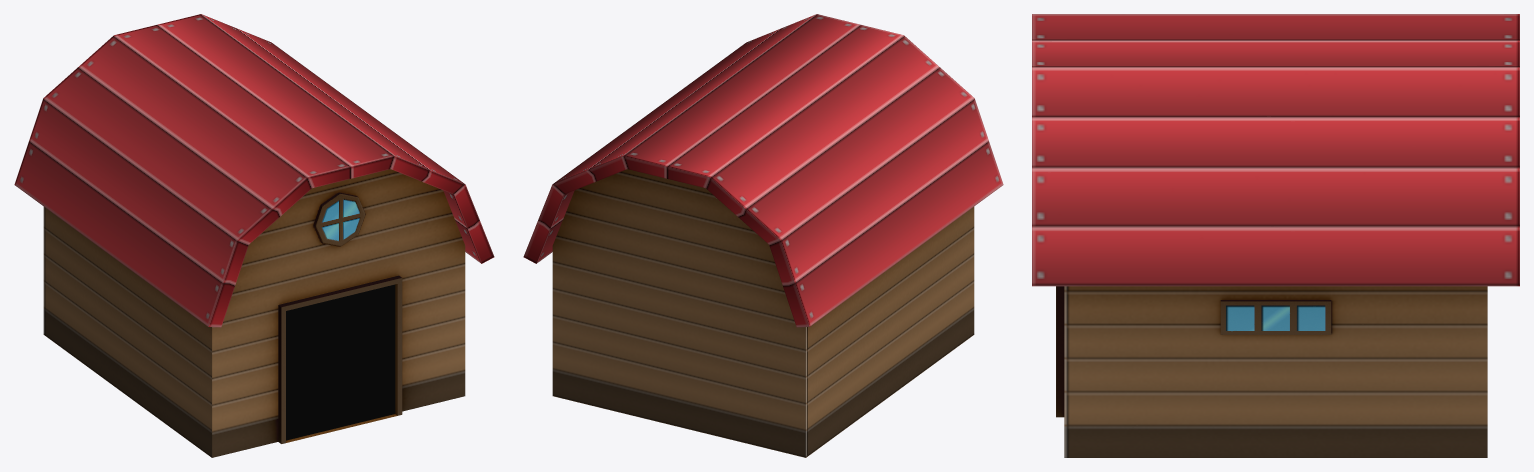
Rendered from house.glb.
3 views of the same model, side by side, from view 1: azimuth 30°, elevation 25°; view 2: azimuth 150°, elevation 25°; view 3: azimuth 270°, elevation 25° (orthographic). The views are drawn at different scales.
Visible parts, largest first — view 1: barn_geo, door_R_geo, door_L_geo; view 2: barn_geo; view 3: barn_geo.
Part boxes in pixels (x1,y1,x2,y2): barn_geo: (14, 14, 494, 457); door_R_geo: (339, 284, 395, 427); door_L_geo: (286, 298, 339, 440); barn_geo: (523, 14, 1003, 457); barn_geo: (1032, 14, 1519, 457).
Bounding box in the file's own units: 0.9552 × 0.8607 × 1.12.
2 materials, 2 textured.
